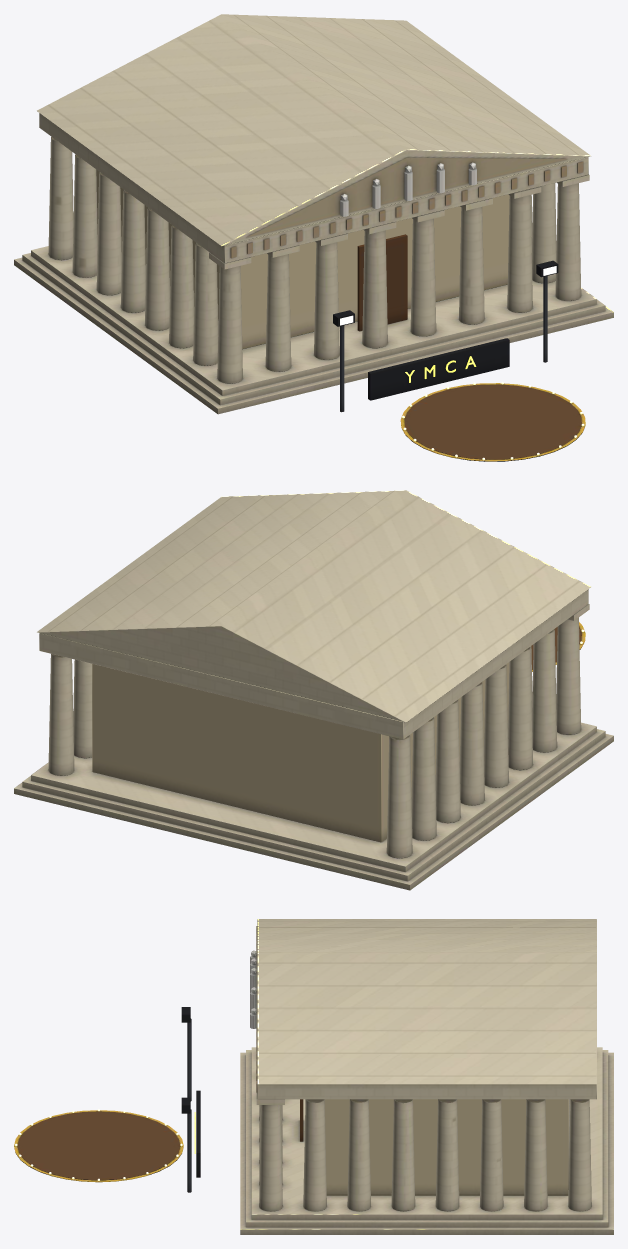
Rendered from partenon.glb.
3 views of the same model, one above another, from view 1: azimuth 30°, elevation 25°; view 2: azimuth 150°, elevation 25°; view 3: azimuth 270°, elevation 25° (orthographic). The views are drawn at different scales.
Visible parts, largest first — view 1: partenon; view 2: partenon; view 3: partenon.
Part boxes in pixels (box(x1,y1,x2,y2)): partenon: box(14, 14, 613, 461); partenon: box(14, 490, 613, 890); partenon: box(14, 919, 613, 1234).
Bounding box in the file's own units: 37 × 18.7 × 53.
1 material, 1 textured.
